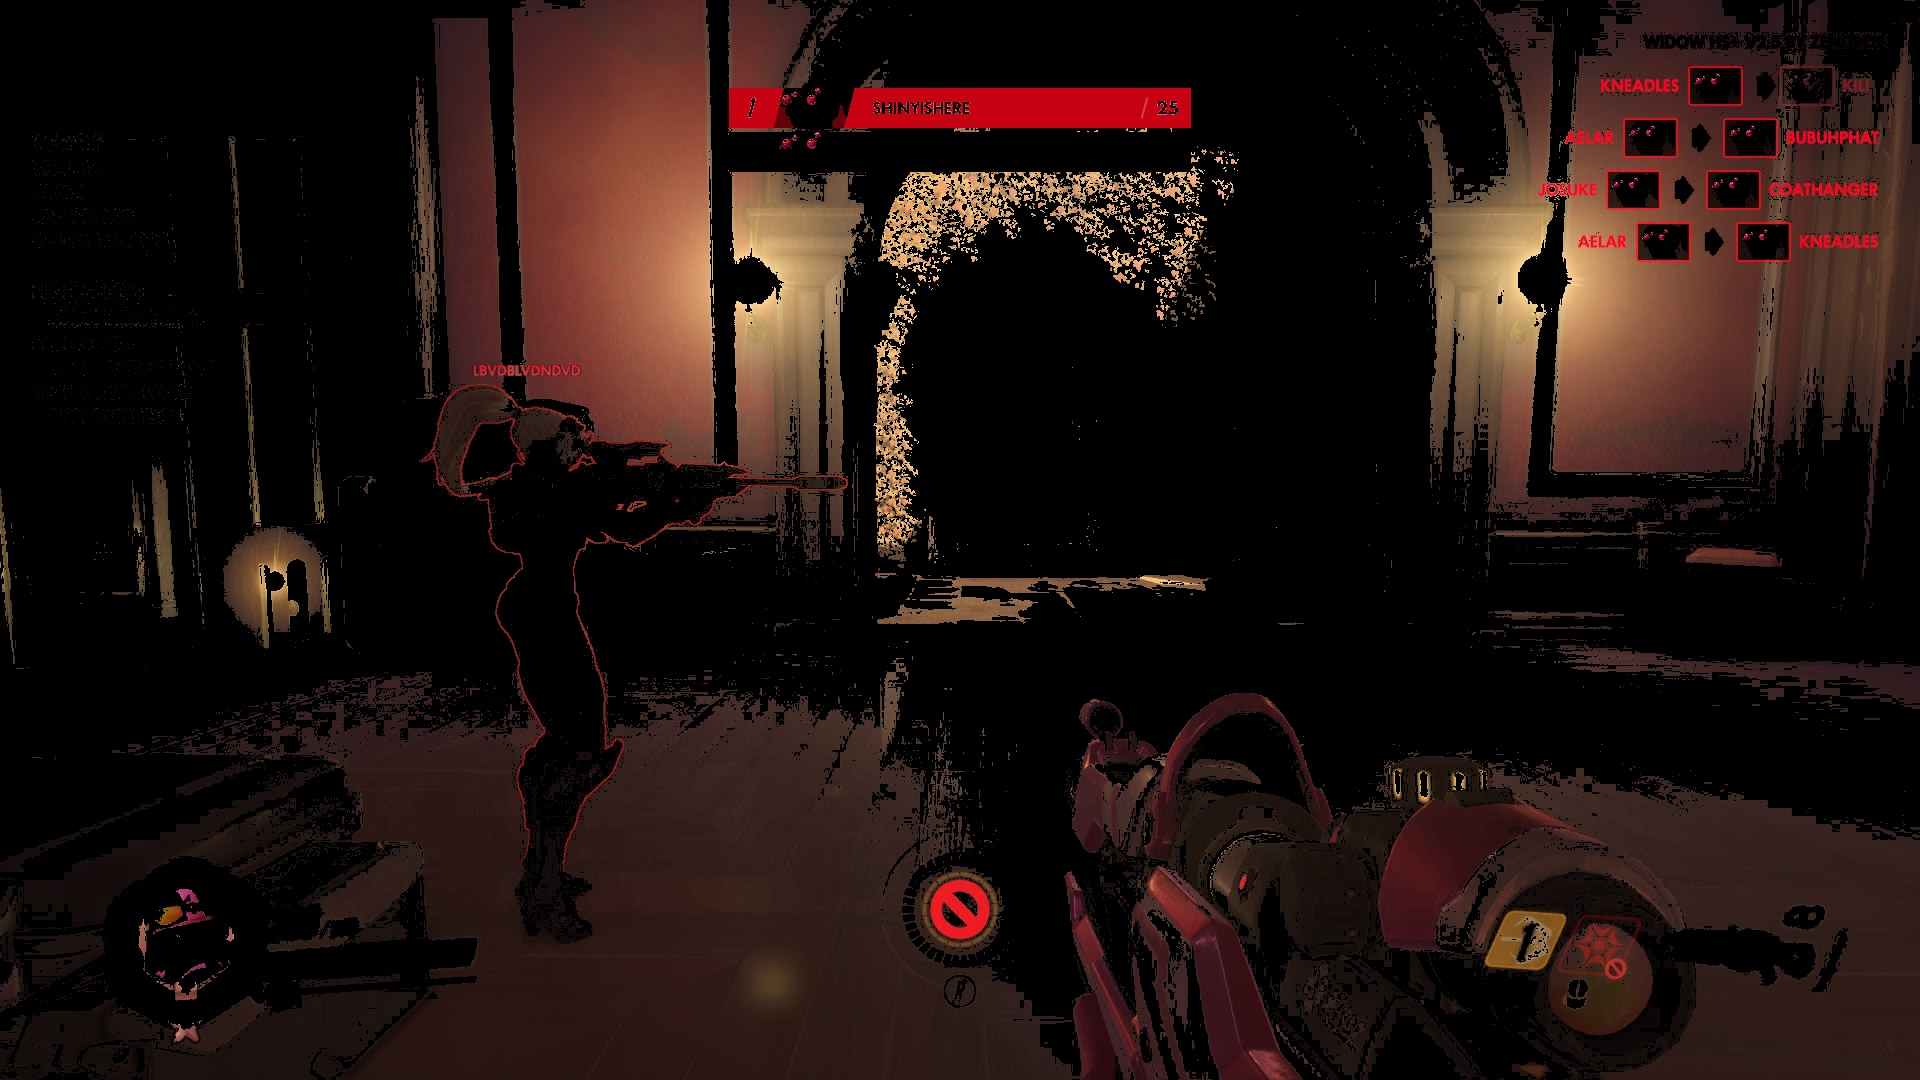widowmaker: (436, 384, 752, 945)
